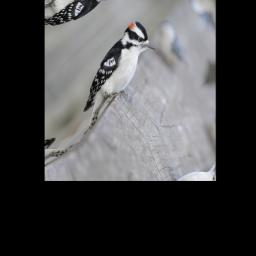Woodpecker: (56, 8, 168, 137)
